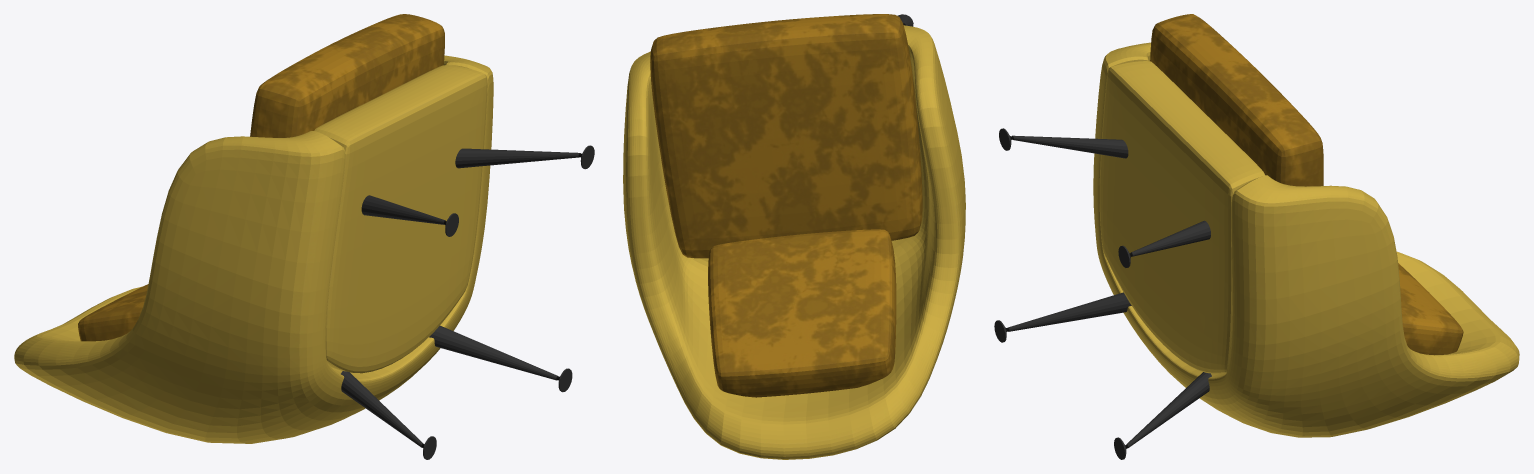
File: arm3.obj
3 renders of one model, left to right at view 1: azimuth 30°, elevation 25°; view 2: azimuth 150°, elevation 25°; view 3: azimuth 270°, elevation 25°, orthographic. The views are drawn at different scales.
Visible parts, largest first — view 1: butaque_Cube.001, butaque_potes_Tube.001; view 2: butaque_Cube.001; view 3: butaque_Cube.001, butaque_potes_Tube.001.
Boxes of the visible parts, x1,y1,x2,y2 form: butaque_Cube.001: (14, 14, 493, 443); butaque_potes_Tube.001: (341, 145, 594, 459); butaque_Cube.001: (623, 14, 965, 459); butaque_Cube.001: (1093, 14, 1519, 437); butaque_potes_Tube.001: (994, 128, 1211, 459).
Bounding box in the file's own units: 25.13 × 22.55 × 28.47.
Materials: 4 (2 with a texture image).
